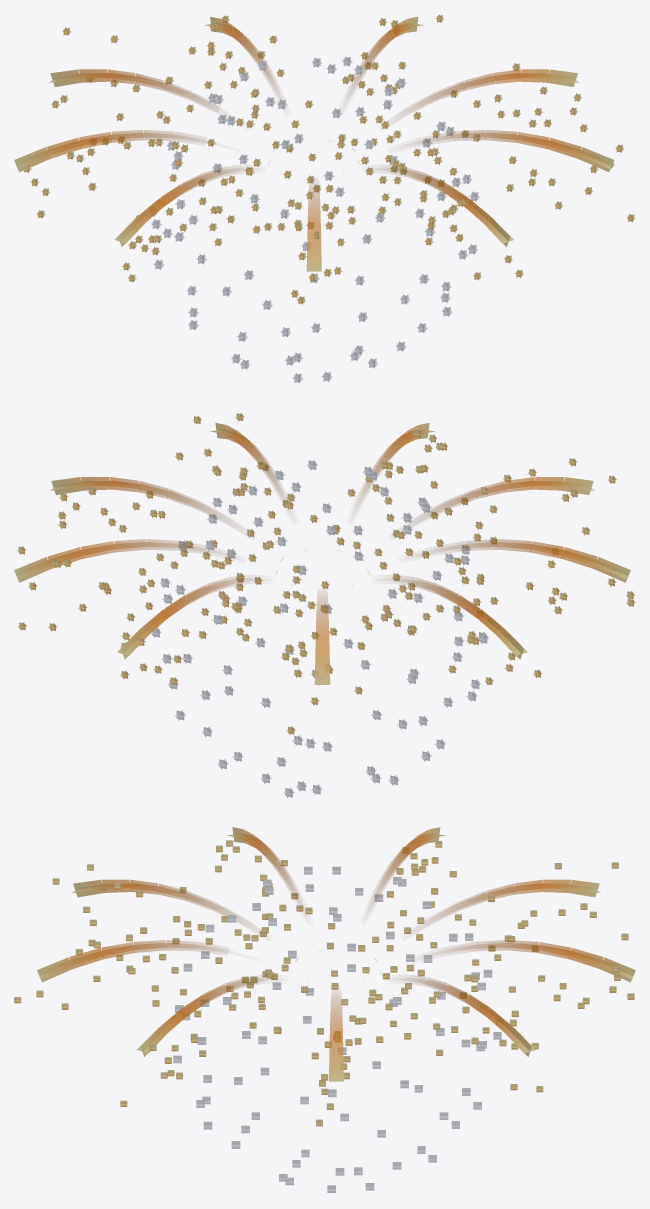
The model's file is fw_palm_gold_silver_b.glb.
The picture shows the model from 3 angles, top to bottom: view 1: azimuth 30°, elevation 25°; view 2: azimuth 150°, elevation 25°; view 3: azimuth 270°, elevation 25°; orthographic projection. The views are drawn at different scales.
Parts seen in each view (by area): view 1: spire; view 2: spire; view 3: spire.
Part boxes in pixels (x1,y1,x2,y2): spire: (14,14,635,383); spire: (14,413,635,797); spire: (14,827,635,1192).
Size of the model in its own units: 16.45 by 9.13 by 17.33.
3 materials, 3 textured.
